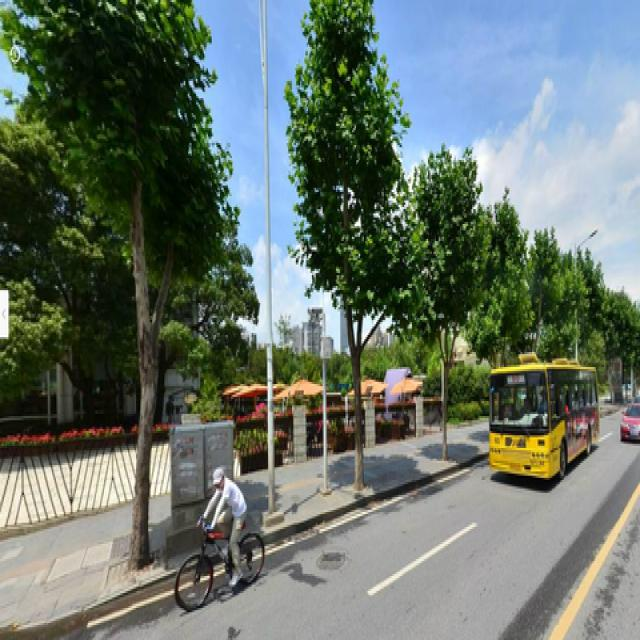meta: (302, 4, 402, 476)
